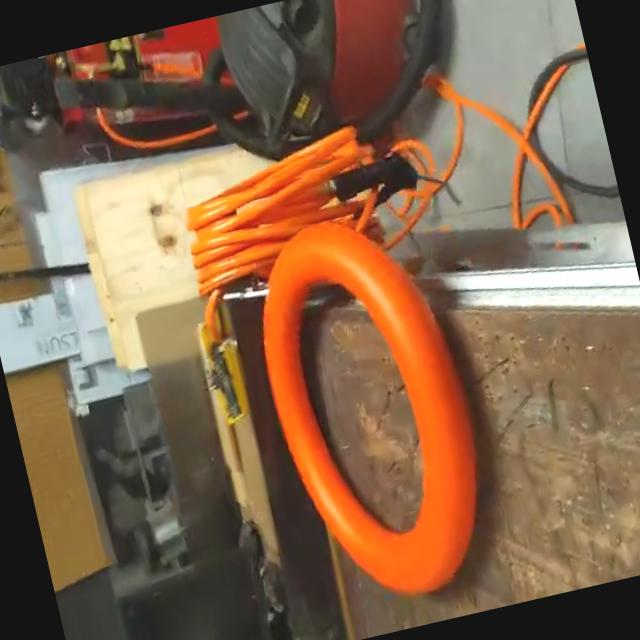note: (234, 194, 509, 618)
